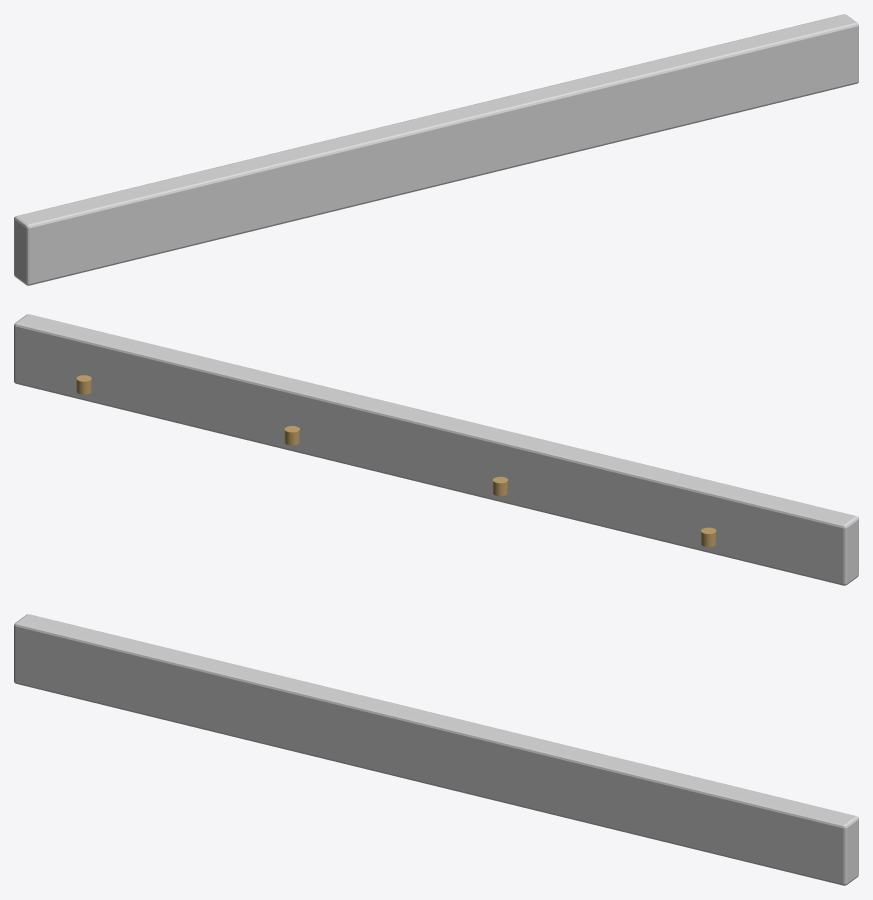
File: hook_rail__0.glb
The picture shows the model from 3 angles, top to bottom: view 1: azimuth 30°, elevation 25°; view 2: azimuth 150°, elevation 25°; view 3: azimuth 330°, elevation 25°; orthographic projection.
Visible parts, largest first — view 1: hook rail; view 2: hook rail; view 3: hook rail.
Boxes of the visible parts, <box> form: hook rail: <box>14,14,858,285</box>; hook rail: <box>14,314,858,585</box>; hook rail: <box>14,614,858,885</box>.
Bounding box in the file's own units: 1 × 0.07 × 0.063.
